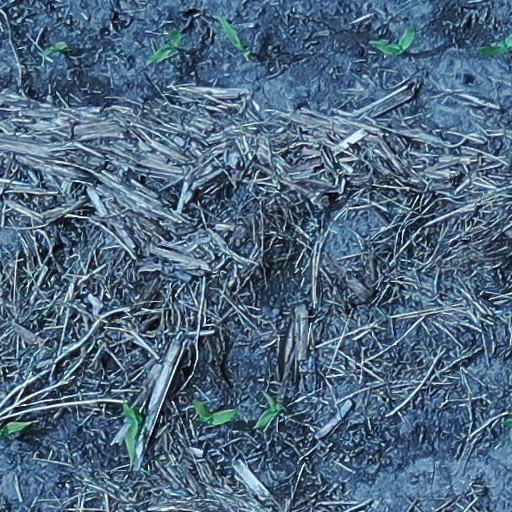planta: (369, 25, 414, 54), (149, 31, 181, 63), (193, 401, 239, 423), (123, 399, 138, 465), (254, 393, 280, 428), (219, 18, 244, 49)
